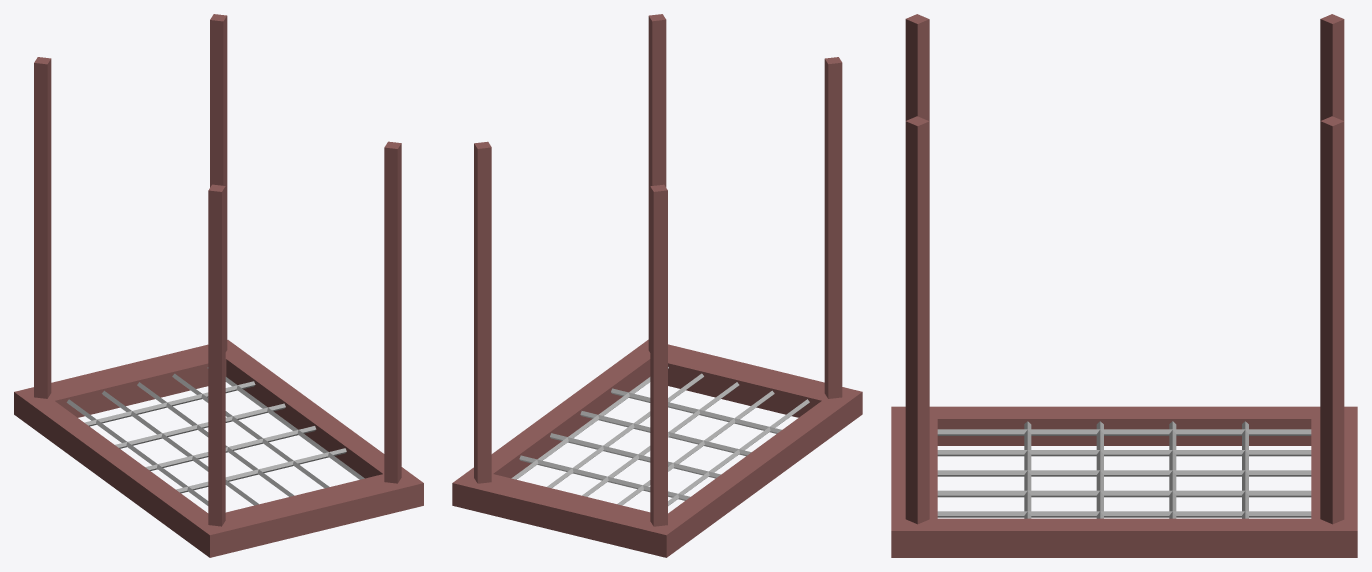
The model's file is CeilingHungRack1.fbx.
3 renders of one model, left to right at view 1: azimuth 30°, elevation 25°; view 2: azimuth 150°, elevation 25°; view 3: azimuth 270°, elevation 25°, orthographic. The views are drawn at different scales.
Parts seen in each view (by area): view 1: CeilingHungRack1; view 2: CeilingHungRack1; view 3: CeilingHungRack1.
Boxes of the visible parts, x1,y1,x2,y2 form: CeilingHungRack1: (14,14,423,557); CeilingHungRack1: (452,14,862,557); CeilingHungRack1: (891,14,1357,557).
Size of the model in its own units: 122 by 194 by 193.
